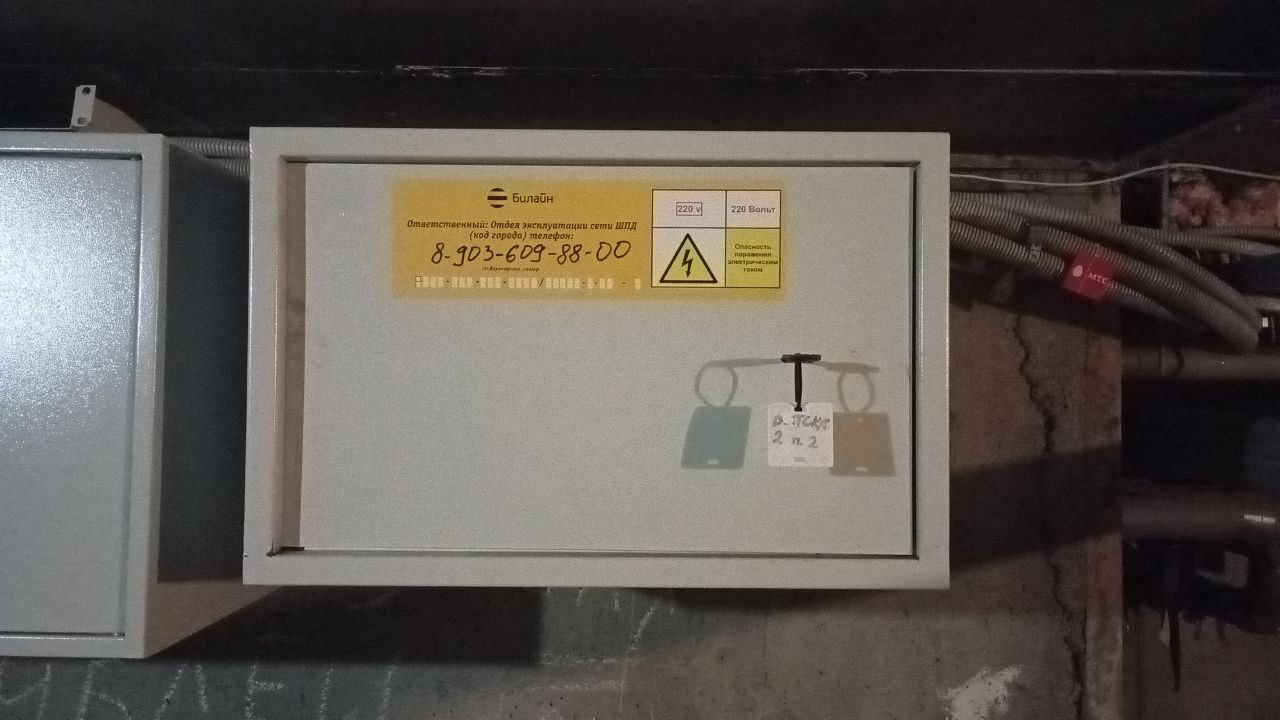shta-7m: (229, 103, 964, 604)
